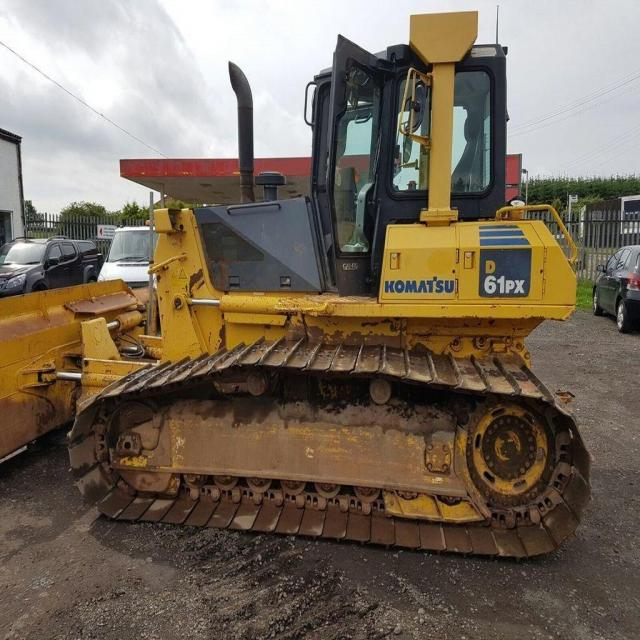Bulldozer: (4, 15, 609, 569)
